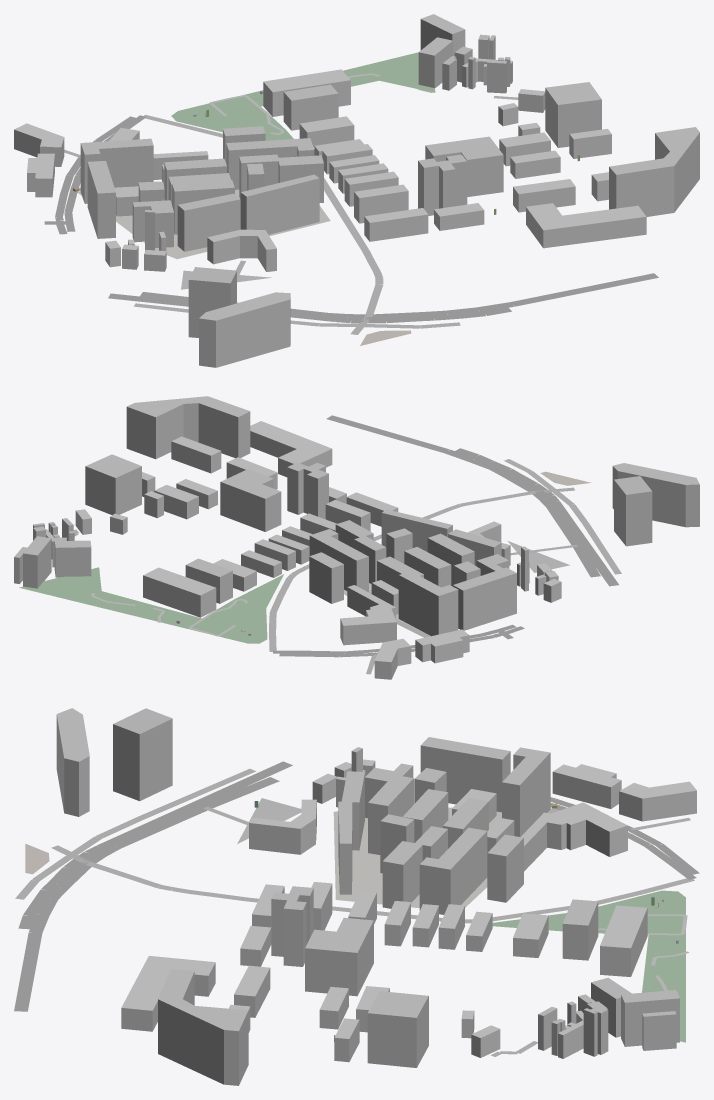
3 views of the same model, one above another, from view 1: azimuth 30°, elevation 25°; view 2: azimuth 150°, elevation 25°; view 3: azimuth 270°, elevation 25° (orthographic). The views are drawn at different scales.
Size of the model in its own units: 580 by 56.12 by 519.
